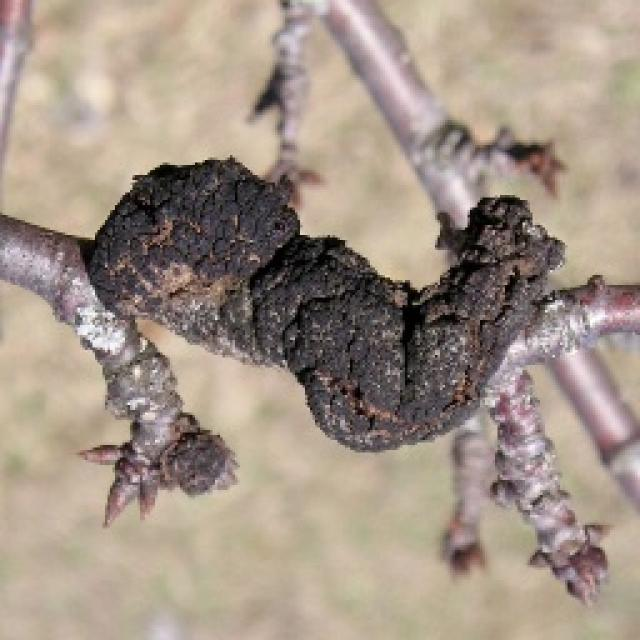Black_knot: (82, 150, 568, 455)
